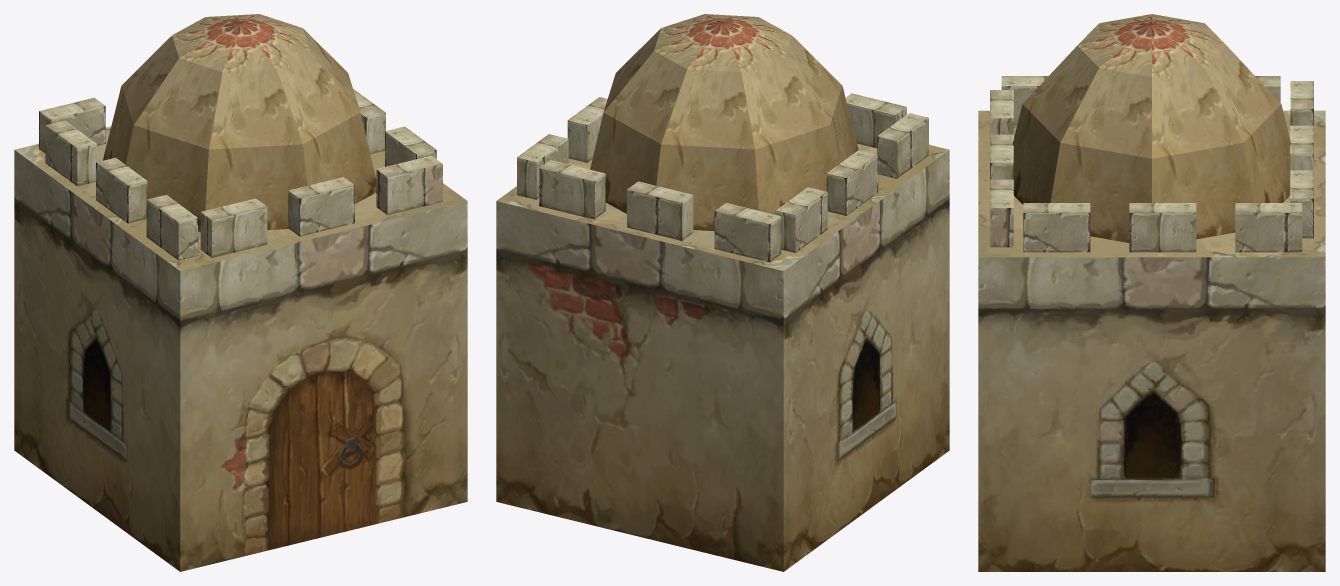
The model's file is shamo_fangzi_4.fbx.
The picture shows the model from 3 angles, left to right: view 1: azimuth 30°, elevation 25°; view 2: azimuth 150°, elevation 25°; view 3: azimuth 270°, elevation 25°; orthographic projection. The views are drawn at different scales.
Visible parts, largest first — view 1: polySurface128, polySurface141, polySurface131, polySurface129, polySurface130, polySurface138, polySurface140, polySurface139, polySurface135, polySurface134, polySurface133; view 2: polySurface128, polySurface141, polySurface135, polySurface137, polySurface136, polySurface139, polySurface138, polySurface140, polySurface131, polySurface132, polySurface133; view 3: polySurface128, polySurface141, polySurface132, polySurface133, polySurface134, polySurface129, polySurface137, polySurface130, polySurface136, polySurface131, polySurface135, polySurface138.
Part boxes in pixels (x1,y1,x2,y2): polySurface128: (14,126,467,571); polySurface141: (103,14,376,232); polySurface131: (200,198,267,257); polySurface129: (376,155,442,215); polySurface130: (288,177,354,236); polySurface138: (146,195,198,260); polySurface140: (45,120,96,186); polySurface139: (96,157,147,223); polySurface135: (39,97,105,152); polySurface134: (385,126,436,166); polySurface133: (353,89,385,154); polySurface128: (496,143,949,571); polySurface141: (590,14,858,231); polySurface135: (714,203,781,262); polySurface137: (539,160,605,219); polySurface136: (627,181,693,240); polySurface139: (826,150,878,215); polySurface138: (877,113,928,178); polySurface140: (776,187,827,252); polySurface131: (845,93,906,148); polySurface132: (517,134,568,199); polySurface133: (567,97,607,162); polySurface128: (978,110,1325,571); polySurface141: (1012,14,1291,242); polySurface132: (1235,203,1302,252); polySurface133: (1129,203,1196,252); polySurface134: (1023,203,1090,252); polySurface129: (990,179,1013,247); polySurface137: (1290,170,1313,238); polySurface130: (990,134,1013,179); polySurface136: (1290,125,1313,170); polySurface131: (990,90,1013,134); polySurface135: (1290,81,1313,125); polySurface138: (1001,76,1048,125).
Size of the model in its own units: 5.89 by 8.89 by 5.89.
